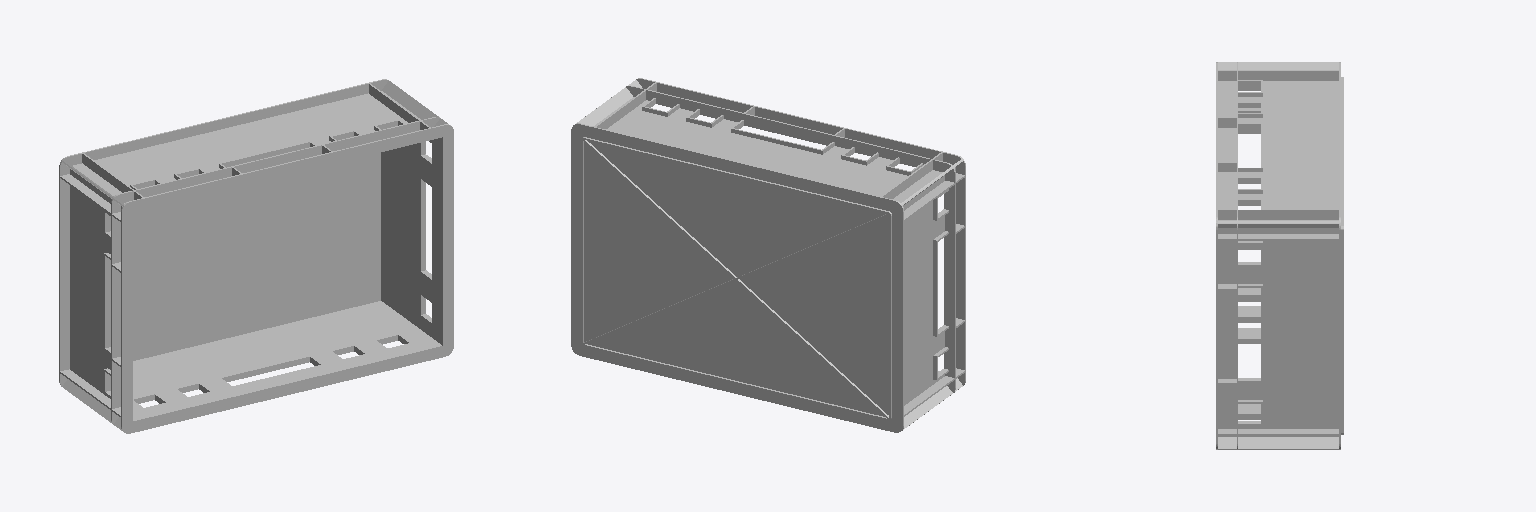
Rendered from Kiste.obj.
3 renders of one model, left to right at view 1: azimuth 30°, elevation 25°; view 2: azimuth 150°, elevation 25°; view 3: azimuth 270°, elevation 25°, orthographic.
Visible parts, largest first — view 1: Volumenkörper1; view 2: Volumenkörper1; view 3: Volumenkörper1.
Part boxes in pixels (left/top/right/bottom): Volumenkörper1: left=59, top=79, right=453, bottom=433; Volumenkörper1: left=571, top=78, right=965, bottom=432; Volumenkörper1: left=1216, top=62, right=1343, bottom=449.
Bounding box in the file's own units: 0.6 × 0.4 × 0.2.